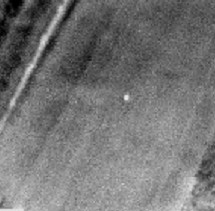Target: (124, 96, 127, 100)
